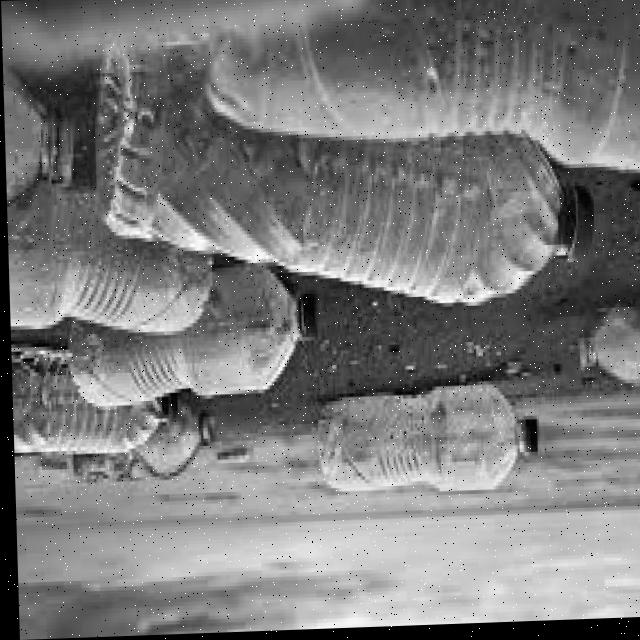bottle: (74, 6, 601, 321), (285, 360, 565, 520)
